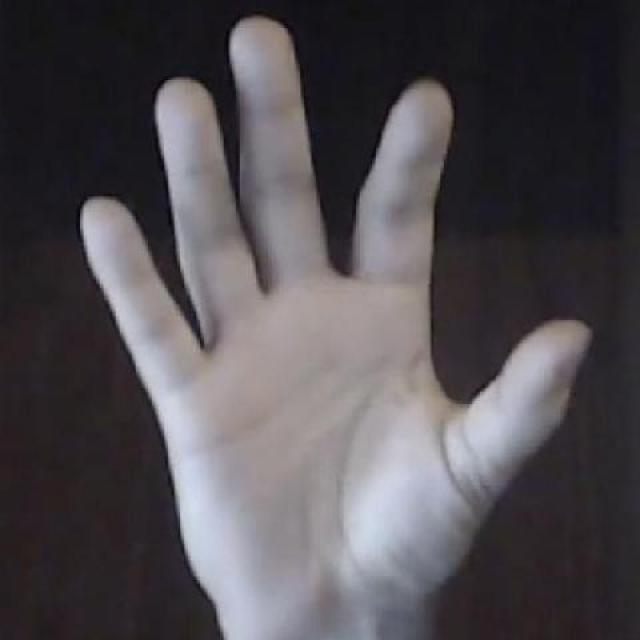Open Hand: (73, 12, 596, 640)
